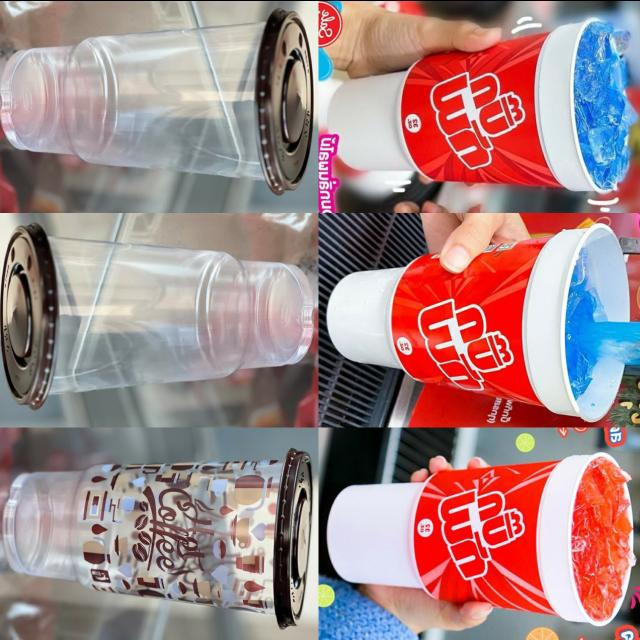plastik: (327, 224, 629, 420), (0, 8, 313, 194), (1, 222, 313, 408), (4, 447, 313, 627), (327, 451, 634, 625), (328, 18, 633, 191)
